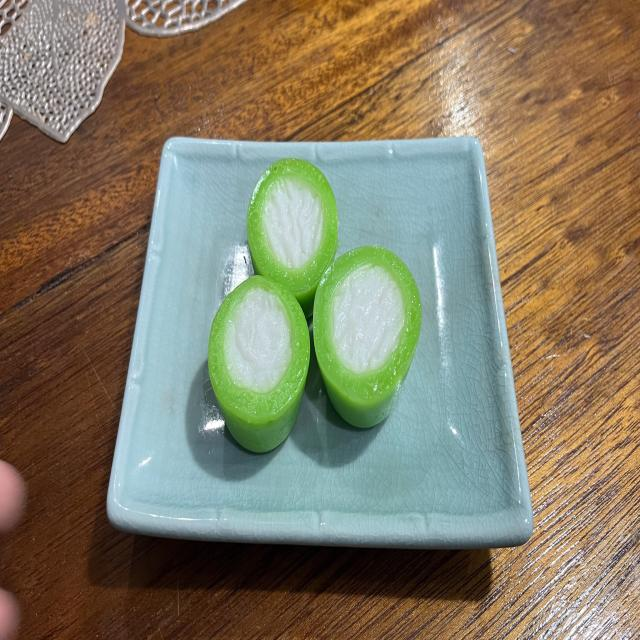nona-manis: (314, 247, 421, 427), (209, 276, 310, 453), (248, 158, 338, 316)
